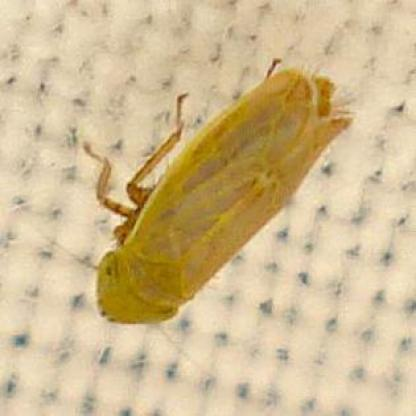green-leafhopper: (84, 63, 346, 326)
